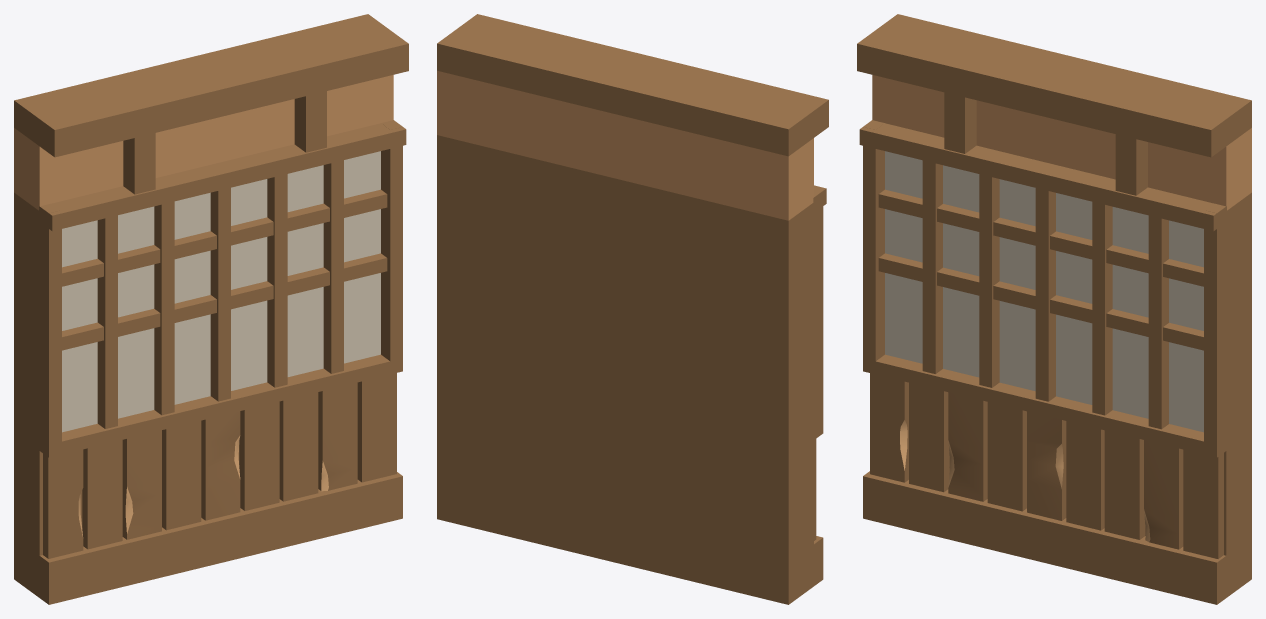
File: Wall_Shoji.fbx
3 renders of one model, left to right at view 1: azimuth 30°, elevation 25°; view 2: azimuth 150°, elevation 25°; view 3: azimuth 330°, elevation 25°, orthographic.
Parts seen in each view (by area): view 1: Wall_Shoji; view 2: Wall_Shoji; view 3: Wall_Shoji.
Boxes of the visible parts, bbox=[...] form: Wall_Shoji: bbox=[14, 14, 408, 604]; Wall_Shoji: bbox=[437, 14, 828, 604]; Wall_Shoji: bbox=[857, 14, 1251, 604].
Size of the model in its own units: 400 by 517 by 79.52.
